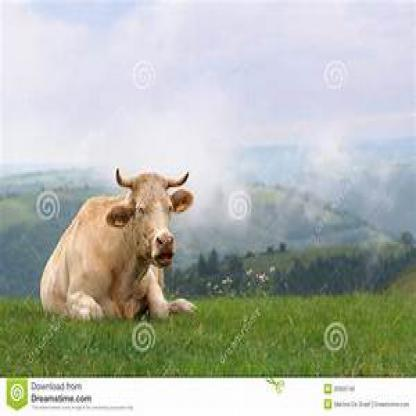cow: (39, 166, 198, 320)
